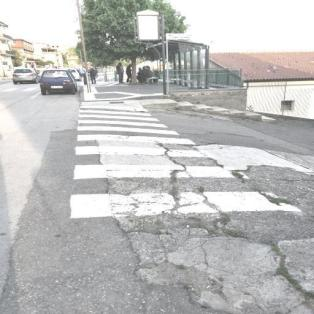Paso de Cebra: (64, 134, 226, 161), (76, 110, 165, 122)
